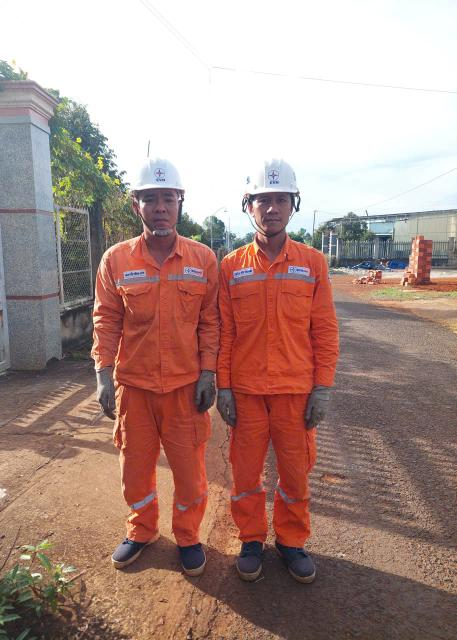gloves: (88, 364, 123, 428), (298, 382, 337, 430), (182, 363, 218, 412), (212, 384, 240, 428)
helmet: (123, 144, 192, 202), (237, 147, 315, 198)
shoes: (269, 533, 320, 584), (107, 525, 166, 568), (234, 523, 270, 587), (168, 523, 207, 578)
